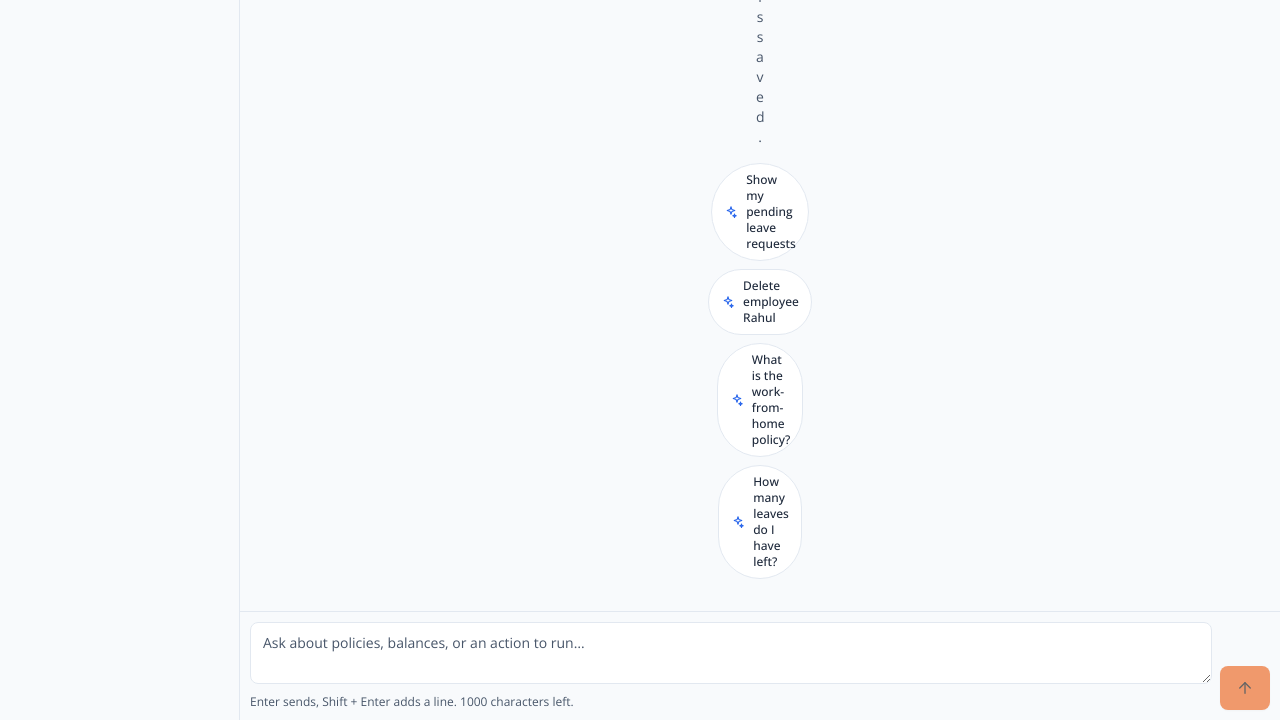
Test: AI chat panel — PROJECT.md §17 scenarios › §17.2 answers a leave balance question with a live table
(page scrolled)
Type "How many leaves do I have left?" into the text box named "message the hr assistant" at (731, 653), box [250,622,1212,684]
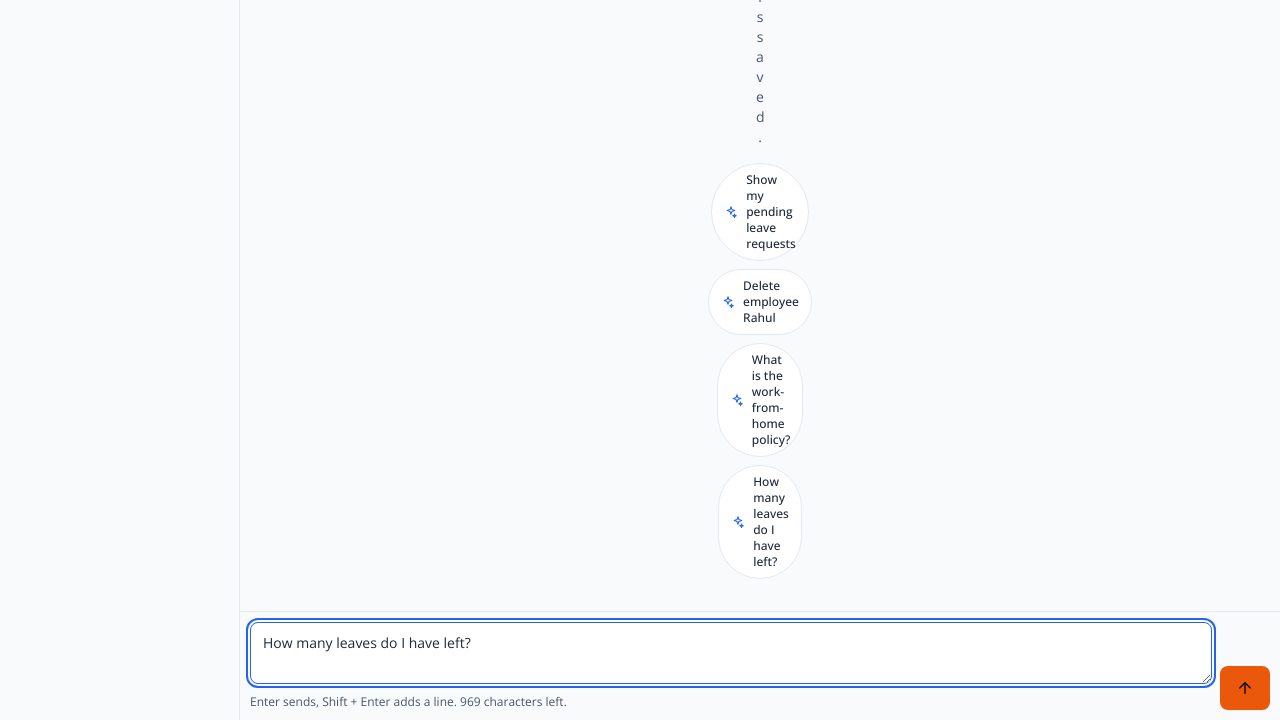
Click the button named "send message" at (1245, 688), box [1220,666,1270,710]
(page scrolled)
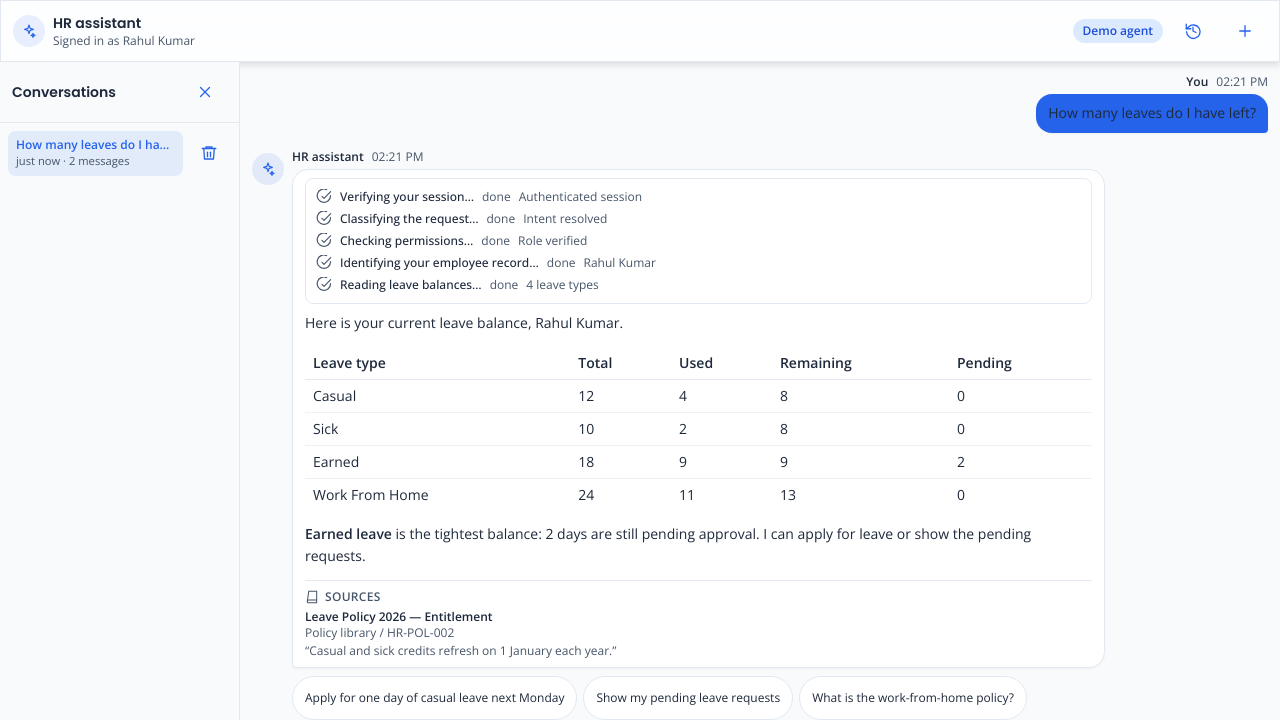
Now the text "Here is your current leave balance, Rahul Kumar." is shown, box [305,313,623,332]
Now the column headings read "Leave type", "Total", "Used", "Remaining", "Pending", in this order, box [305,346,570,379]; [570,346,671,379]; [671,346,772,379]; [772,346,949,379]; [949,346,1092,379]
Now the row "Casual 12 4 8 0" is shown, box [305,380,1092,412]
